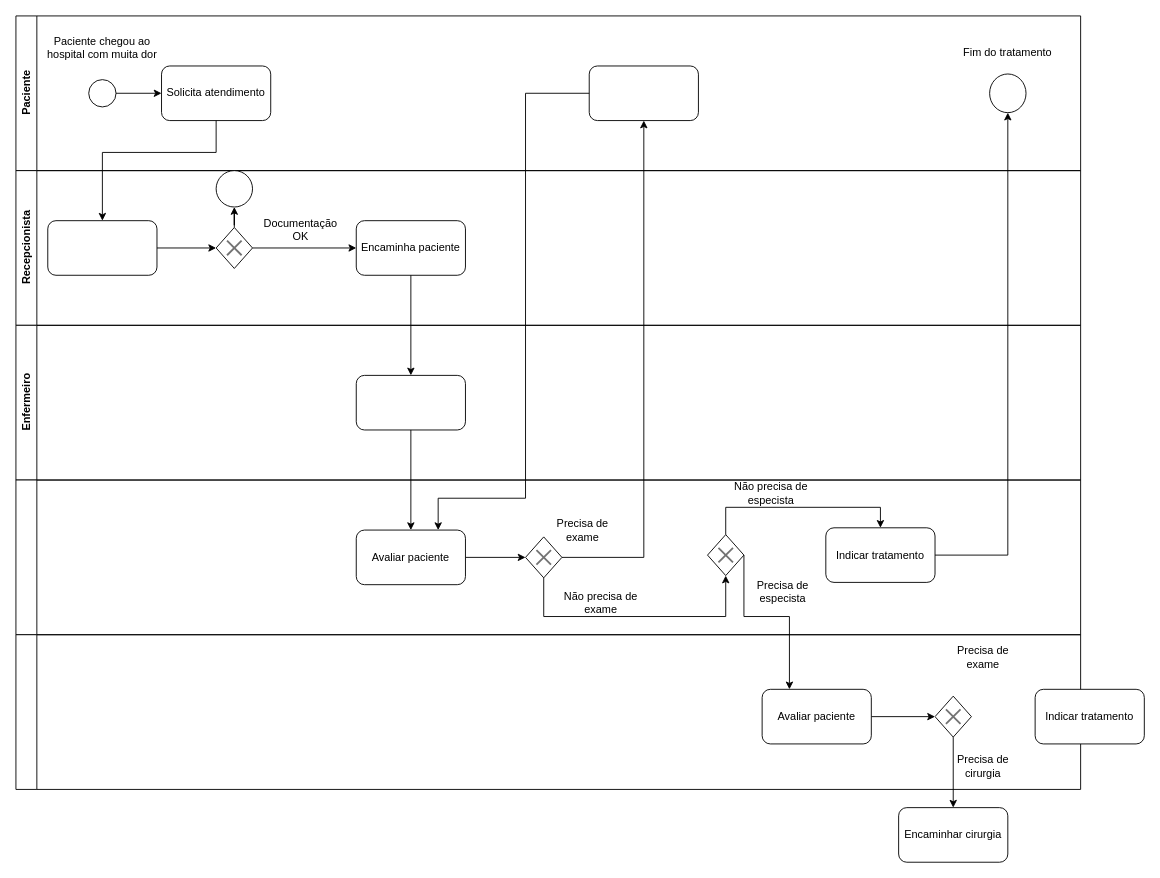
Image size: 1160x878. Some labels were removed from this diagram. The box of each missing label's shape, as (x1, y1, x2, y2) in pixels:
Especialista: (15, 634, 1081, 789)
Médico: (15, 479, 1081, 635)
Realizar exame: (588, 65, 698, 121)
Valida documentação do paciente: (47, 220, 157, 275)
Verifica pressão e peso do paciente: (355, 374, 465, 430)
